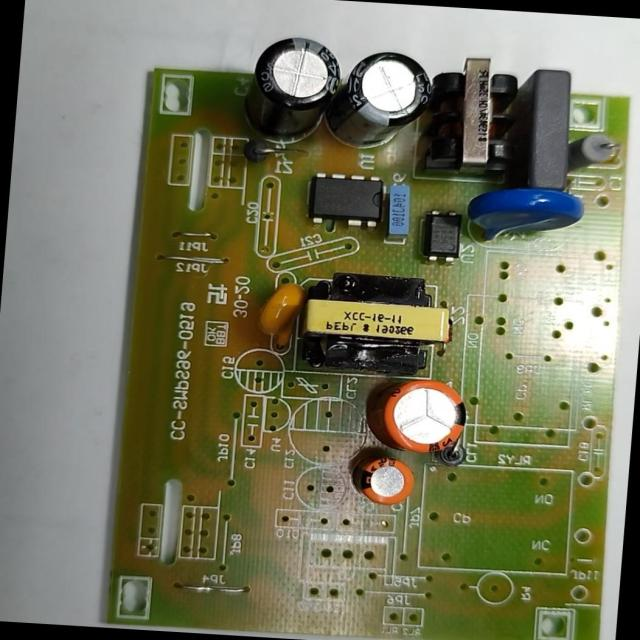Cap1: (377, 378, 472, 458)
Cap2: (352, 454, 419, 508)
Cap3: (325, 51, 435, 156)
Cap4: (238, 30, 344, 149)
MOSFET: (304, 169, 390, 231)
Mov: (462, 182, 586, 250)
Resistor: (567, 130, 622, 178)
Transformer: (299, 266, 454, 373), (427, 57, 531, 179)
